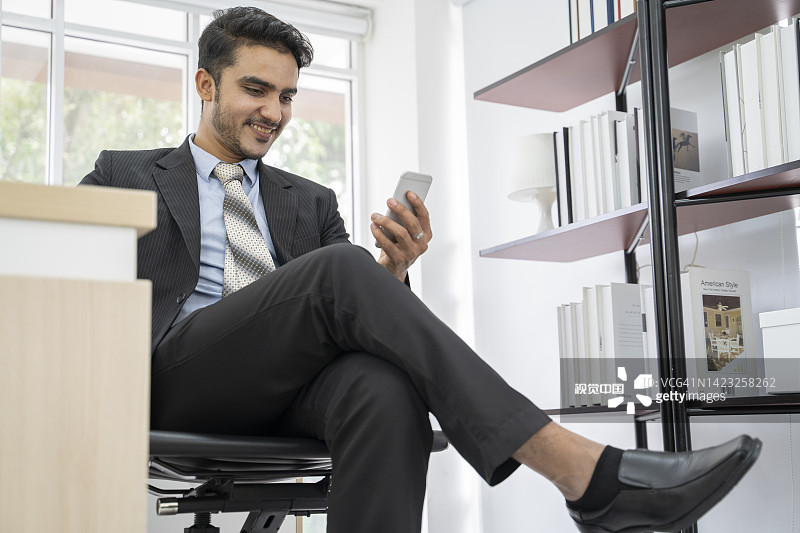reading: (365, 165, 452, 286)
